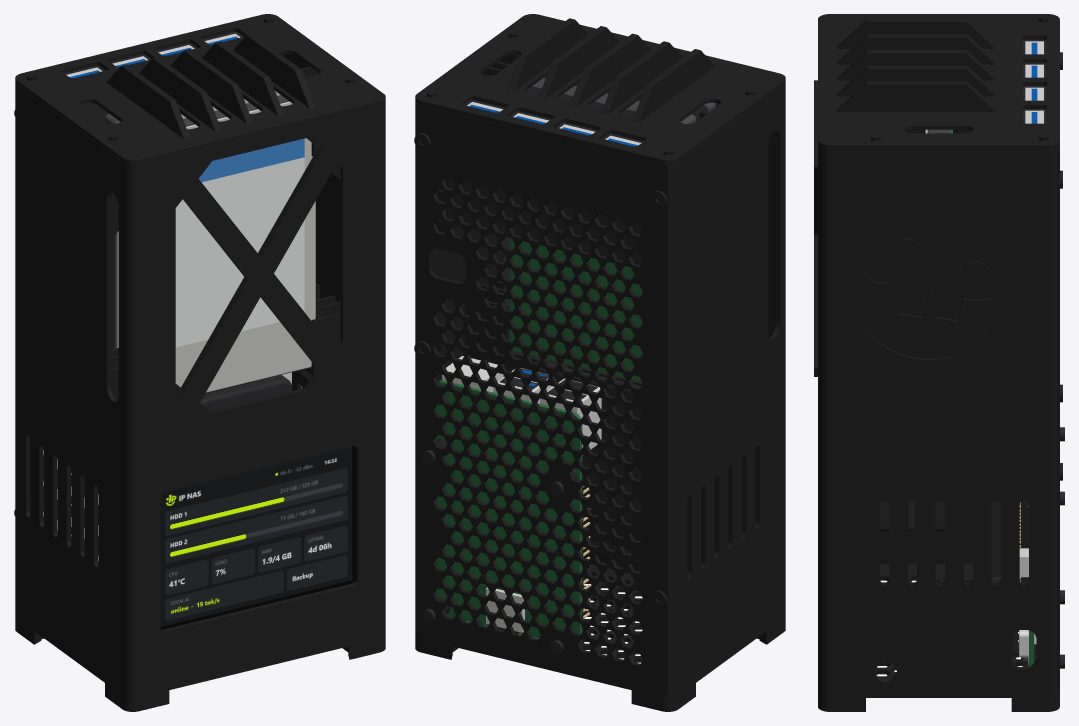
The model's file is NAS_v6d_assembly.glb.
3 renders of one model, left to right at view 1: azimuth 30°, elevation 25°; view 2: azimuth 150°, elevation 25°; view 3: azimuth 270°, elevation 25°, orthographic. The views are drawn at different scales.
Parts seen in each view (by area): view 1: body, crown, screen_ui, hdd1_label, hdd1_cover, hdd1_band, sata1_body, screen_glass, leg, hdd2_cast, hub; view 2: door, body, crown, pi5_pcb, hdd2_pcb, hub, sata2_body, hdd2_cast, screen_shell, leg.002, usb.001, sd_slot (+1 smaller); view 3: body, crown, door, fins, leg.003, leg.001, hub, sata1_body.
Boxes of the visible parts, x1=… form: body: x1=15, y1=16, x2=385, y2=698; crown: x1=15, y1=14, x2=385, y2=164; screen_ui: x1=160, y1=446, x2=352, y2=626; hdd1_label: x1=175, y1=157, x2=304, y2=347; hdd1_cover: x1=175, y1=101, x2=315, y2=392; hdd1_band: x1=198, y1=138, x2=304, y2=182; sata1_body: x1=200, y1=375, x2=291, y2=410; screen_glass: x1=160, y1=445, x2=355, y2=629; leg: x1=105, y1=683, x2=169, y2=711; hdd2_cast: x1=104, y1=114, x2=120, y2=348; hub: x1=64, y1=31, x2=243, y2=117; door: x1=415, y1=103, x2=669, y2=694; body: x1=415, y1=31, x2=785, y2=698; crown: x1=415, y1=14, x2=785, y2=164; pi5_pcb: x1=435, y1=380, x2=582, y2=643; hdd2_pcb: x1=510, y1=238, x2=642, y2=381; hub: x1=445, y1=100, x2=643, y2=264; sata2_body: x1=529, y1=360, x2=642, y2=519; hdd2_cast: x1=504, y1=78, x2=696, y2=383; screen_shell: x1=583, y1=460, x2=742, y2=561; leg.002: x1=631, y1=683, x2=695, y2=711; usb.001: x1=540, y1=378, x2=601, y2=455; sd_slot: x1=486, y1=587, x2=524, y2=632; body: x1=814, y1=15, x2=1059, y2=697; crown: x1=818, y1=14, x2=1059, y2=149; door: x1=1034, y1=144, x2=1059, y2=690; fins: x1=991, y1=501, x2=1000, y2=576; leg.003: x1=1011, y1=693, x2=1059, y2=711; leg.001: x1=818, y1=694, x2=865, y2=711; hub: x1=1022, y1=39, x2=1046, y2=123; sata1_body: x1=880, y1=501, x2=914, y2=532.
Bounding box in the file's own units: 0.1 × 0.2116 × 0.0808.
20 materials, 1 textured.
